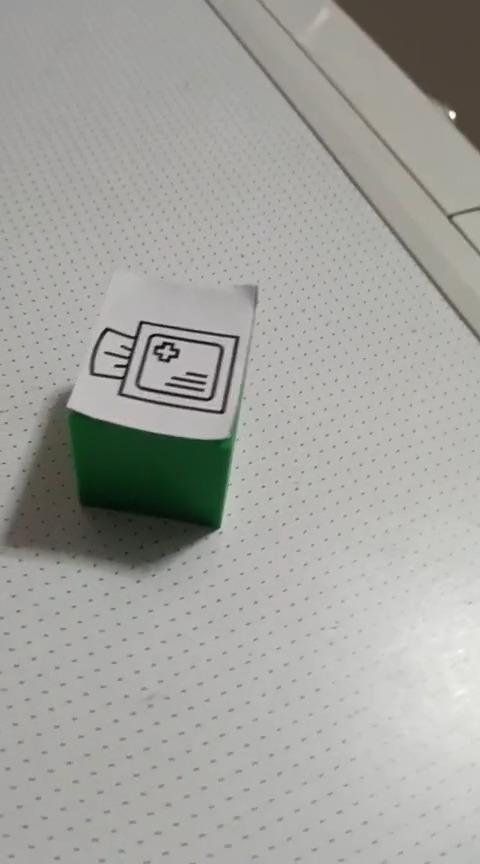Gauze: (64, 267, 258, 530)
